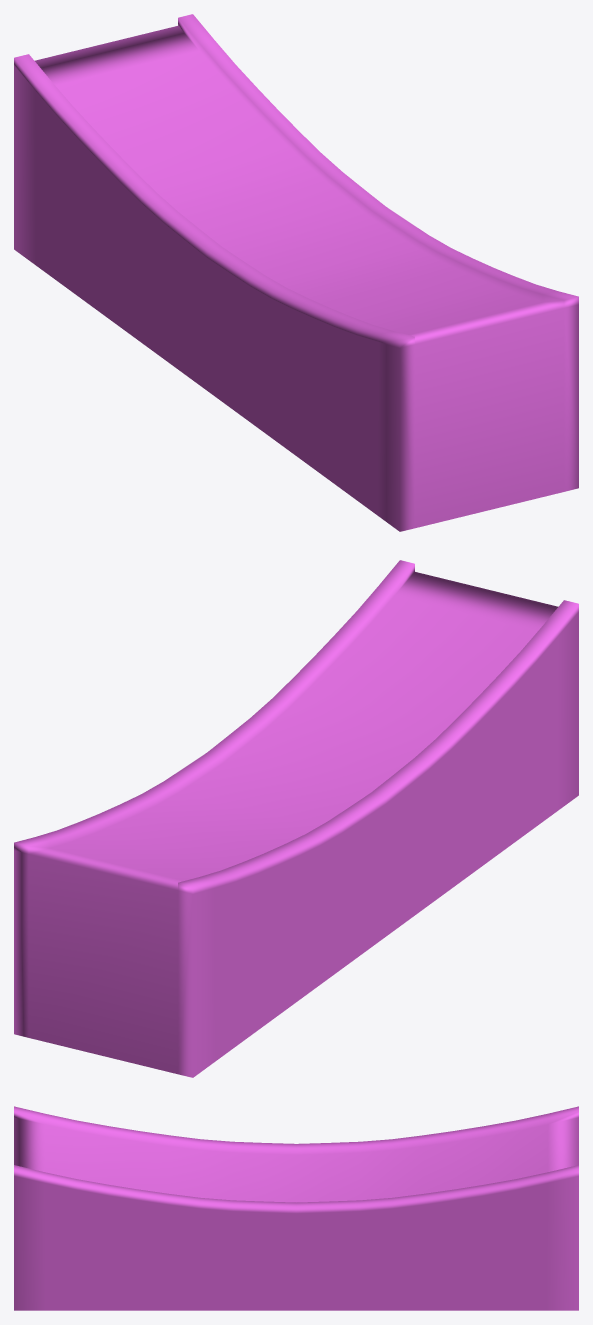
The model's file is RD_Dip_Tall1_Mid1.fbx.
3 views of the same model, one above another, from view 1: azimuth 30°, elevation 25°; view 2: azimuth 150°, elevation 25°; view 3: azimuth 270°, elevation 25° (orthographic). The views are drawn at different scales.
Parts seen in each view (by area): view 1: Mesh; view 2: Mesh; view 3: Mesh.
Part boxes in pixels (x1,y1,x2,y2): Mesh: [14, 14, 578, 531]; Mesh: [14, 560, 578, 1077]; Mesh: [14, 1106, 578, 1310].
Bounding box in the file's own units: 480 × 491 × 1793.
